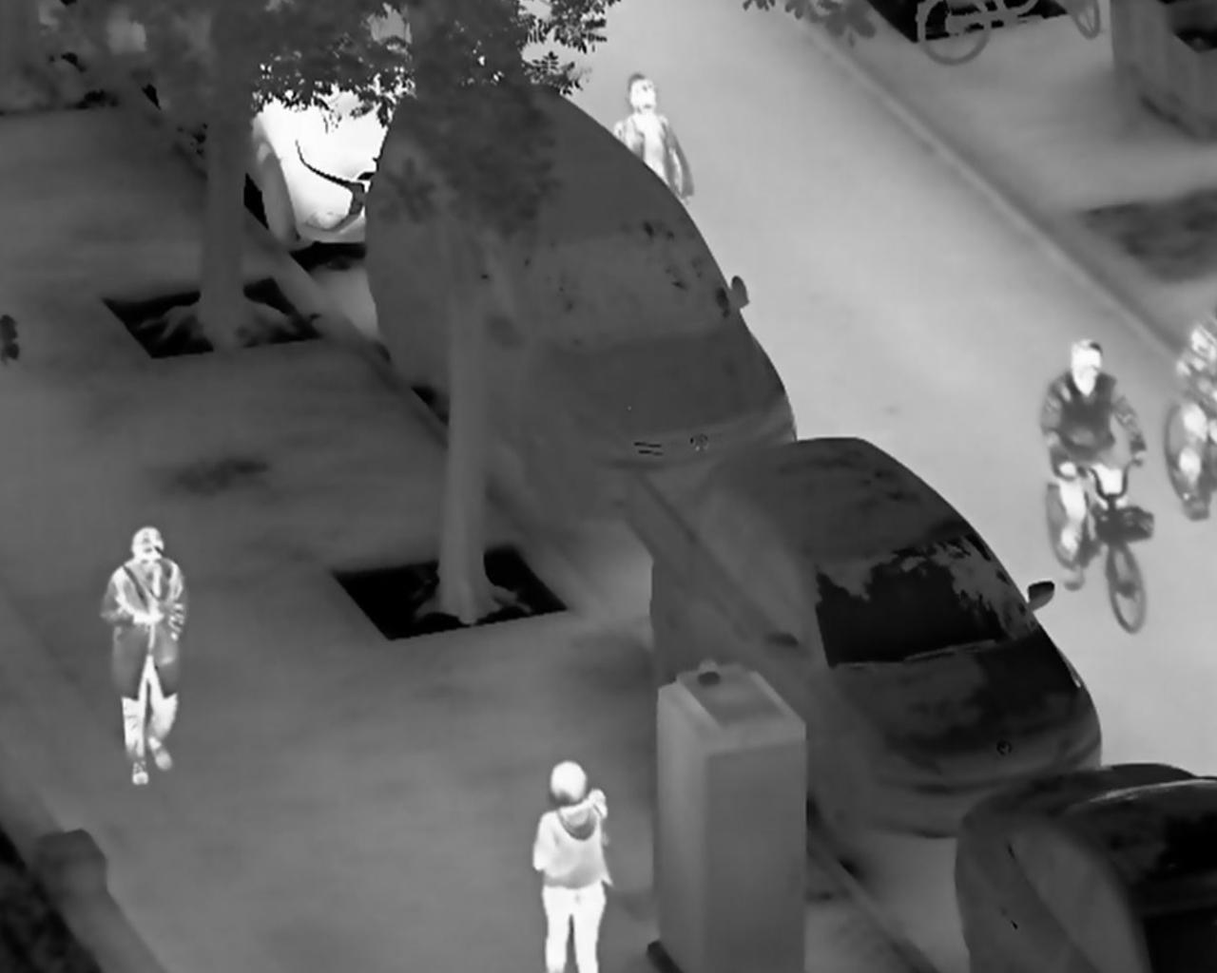person: (1038, 336, 1151, 570), (97, 523, 184, 785), (529, 757, 612, 973), (607, 72, 697, 207)
